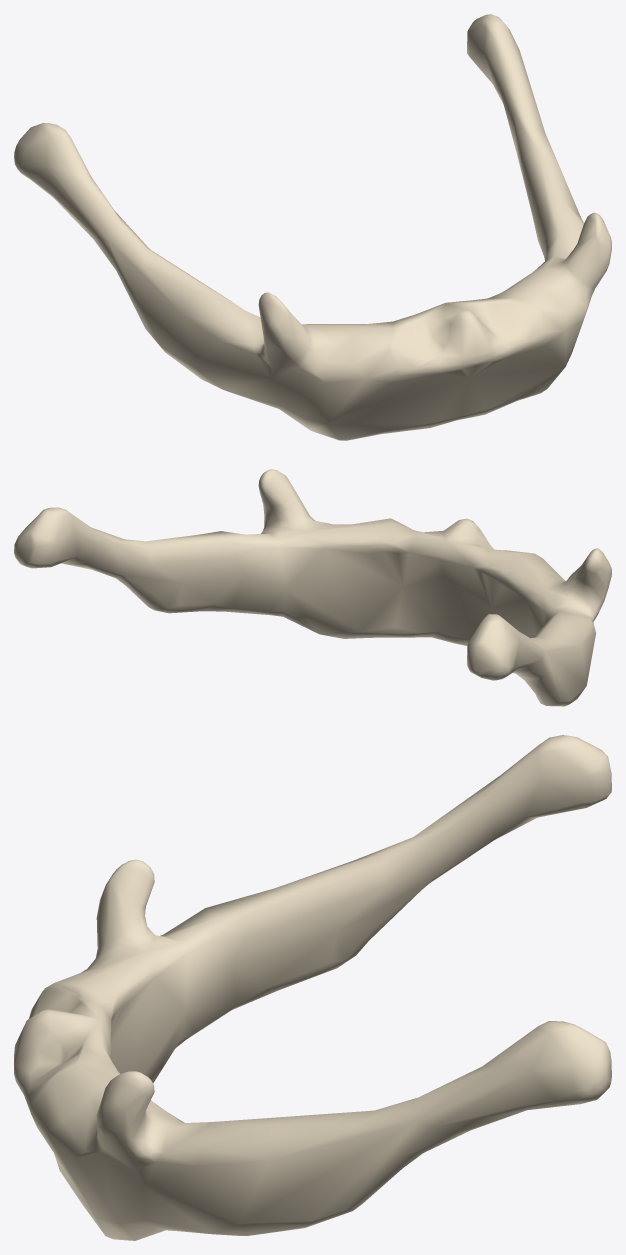
File: hyoid-bone.glb
3 views of the same model, one above another, from view 1: azimuth 30°, elevation 25°; view 2: azimuth 150°, elevation 25°; view 3: azimuth 270°, elevation 25° (orthographic). The views are drawn at different scales.
Visible parts, largest first — view 1: Hyoid bone; view 2: Hyoid bone; view 3: Hyoid bone.
Part boxes in pixels (x1,y1,x2,y2): Hyoid bone: [14, 14, 611, 440]; Hyoid bone: [14, 469, 611, 706]; Hyoid bone: [14, 735, 611, 1240].
Size of the model in its own units: 0.0455 by 0.0195 by 0.036.
